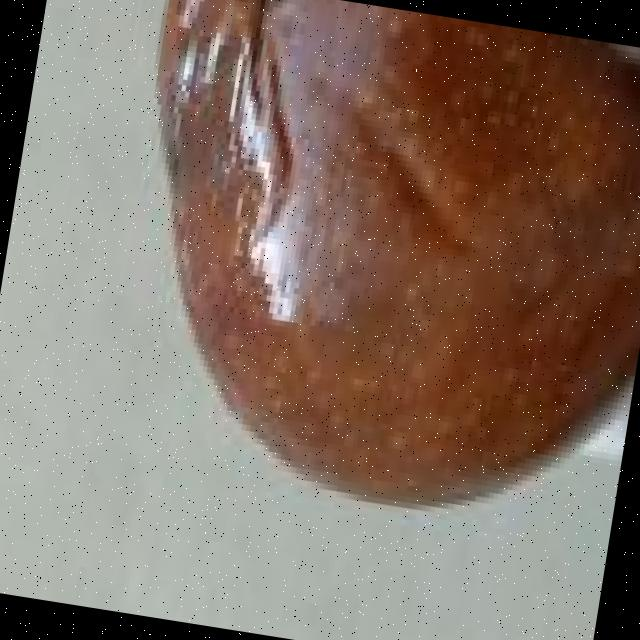Bad_Apple 0-1 day: (158, 0, 640, 506)
